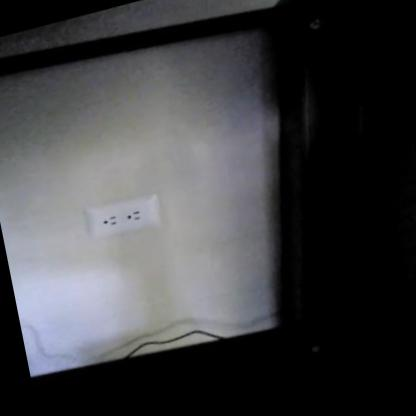OUTLET: (82, 188, 163, 246)
